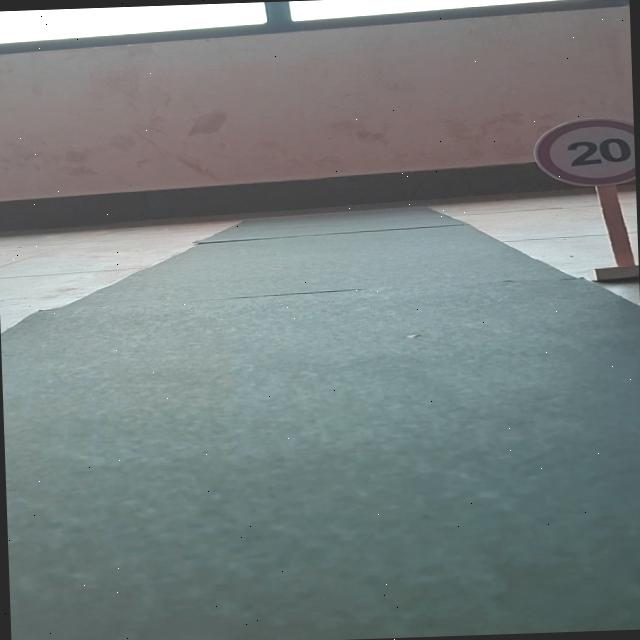Speed20: (526, 112, 636, 192)
